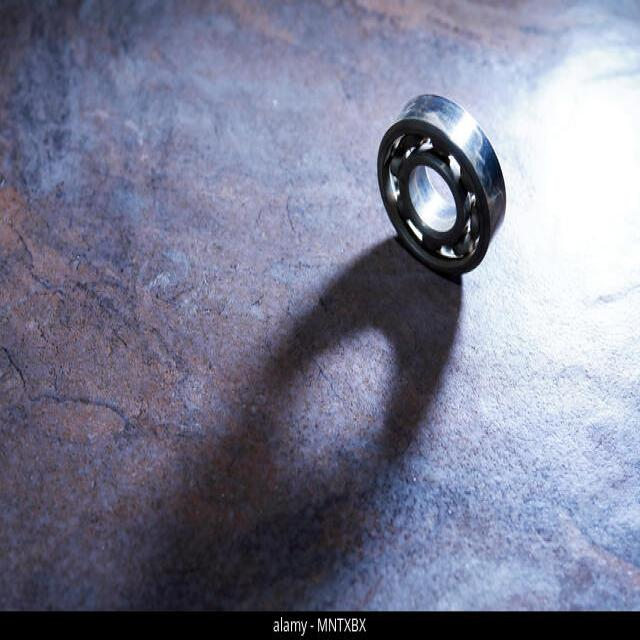Bearing: (375, 91, 508, 280)
